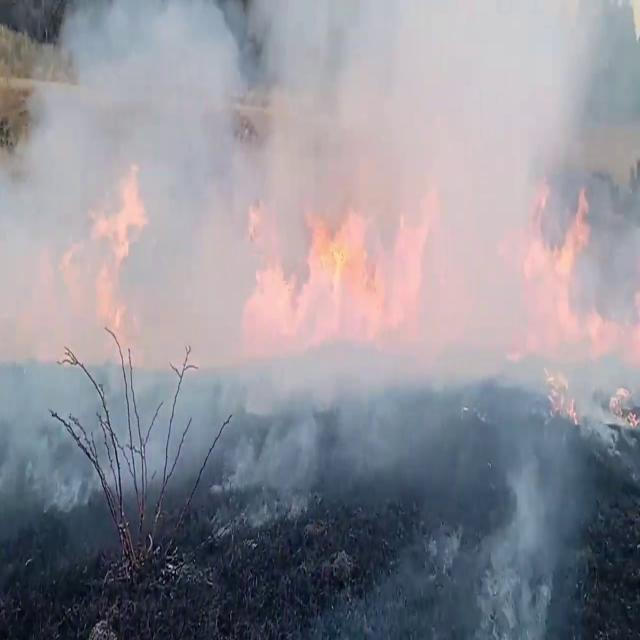Fire: (242, 185, 365, 342), (72, 166, 159, 313)
Smoke: (1, 0, 637, 542)
